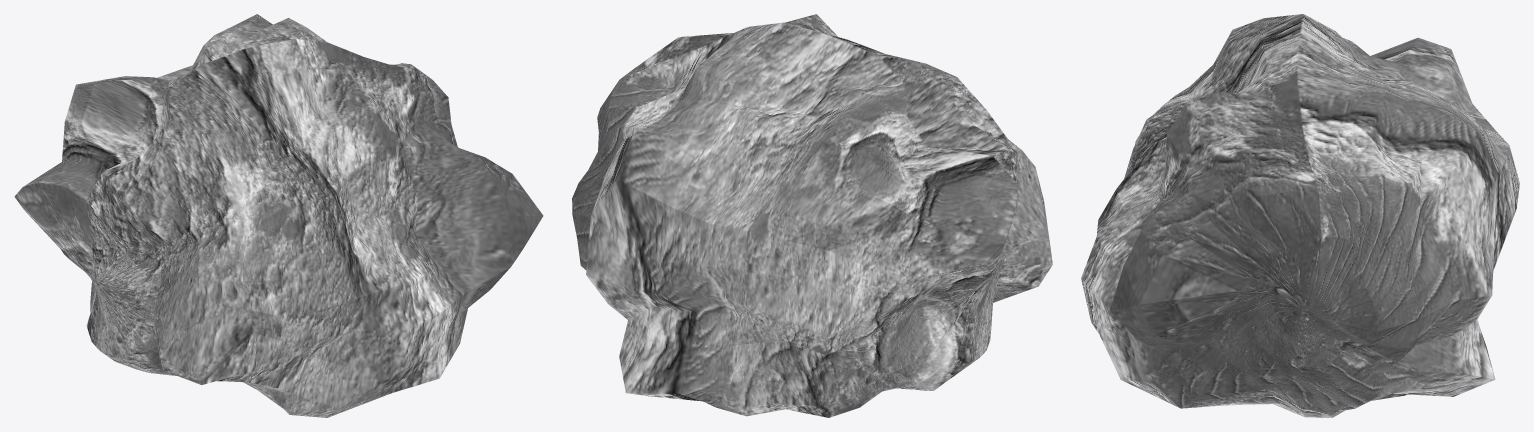
Rendered from asteroide.gltf.
3 views of the same model, side by side, from view 1: azimuth 30°, elevation 25°; view 2: azimuth 150°, elevation 25°; view 3: azimuth 270°, elevation 25° (orthographic). The views are drawn at different scales.
Parts seen in each view (by area): view 1: Sphere; view 2: Sphere; view 3: Sphere.
Boxes of the visible parts, x1,y1,x2,y2 form: Sphere: (14, 14, 543, 417); Sphere: (572, 14, 1052, 417); Sphere: (1081, 14, 1519, 417).
Bounding box in the file's own units: 19.41 × 15.06 × 17.32.
Materials: 1 (1 with a texture image).
